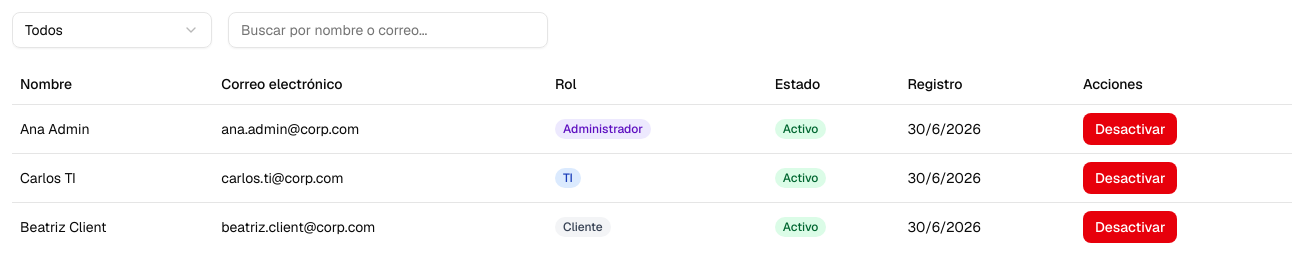
UsersTable — filter panel › filters search by display_name case-insensitively (Scenario U-4)
Type "ana" into the search field with placeholder "Buscar por nombre o correo..." at (388,30), box x1=228 y1=12 x2=548 y2=48
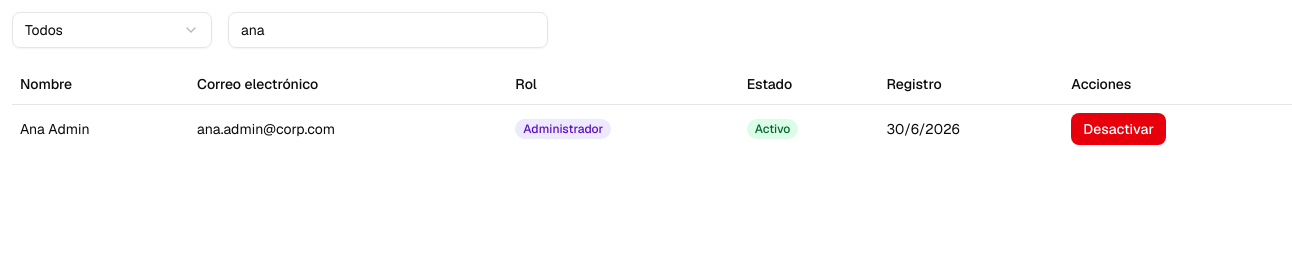
Expected: the text "Ana Admin" is shown, x1=12 y1=104 x2=189 y2=152
Now the text "Carlos TI" is gone
Now the text "Beatriz Client" is gone
